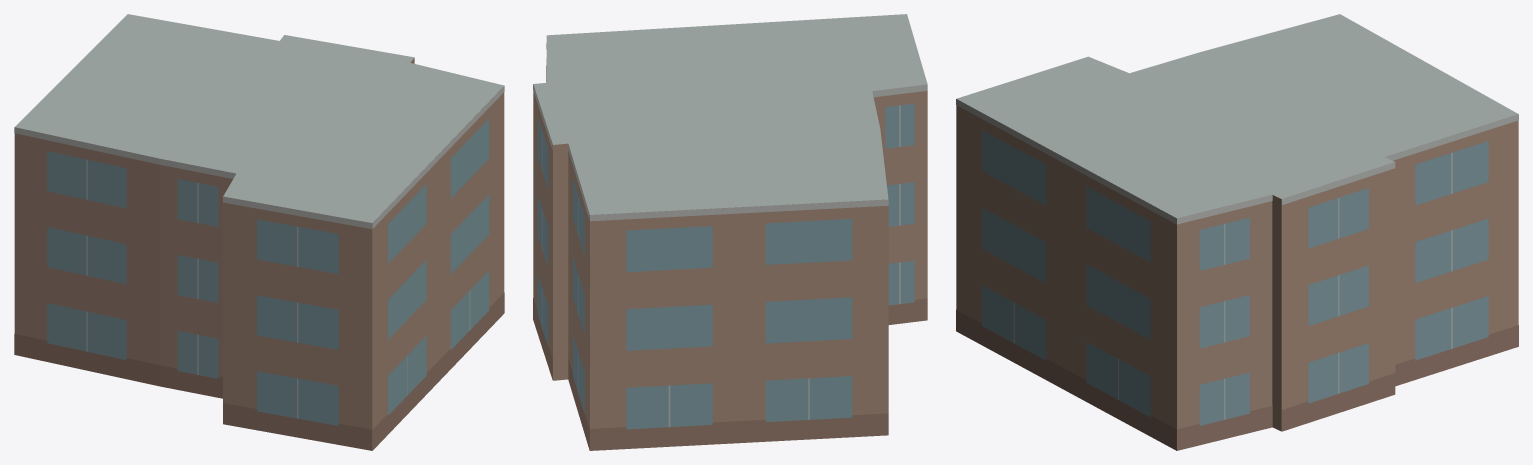
File: survey-upis-32997131.glb
3 views of the same model, side by side, from view 1: azimuth 30°, elevation 25°; view 2: azimuth 150°, elevation 25°; view 3: azimuth 270°, elevation 25° (orthographic). The views are drawn at different scales.
Visible parts, largest first — view 1: survey-upis-32997131.tmp; view 2: survey-upis-32997131.tmp; view 3: survey-upis-32997131.tmp.
Part boxes in pixels (<box>): survey-upis-32997131.tmp: <box>14,14,504,450</box>; survey-upis-32997131.tmp: <box>533,14,927,450</box>; survey-upis-32997131.tmp: <box>956,14,1518,450</box>.
Size of the model in its own units: 17.25 by 9.15 by 20.07.
